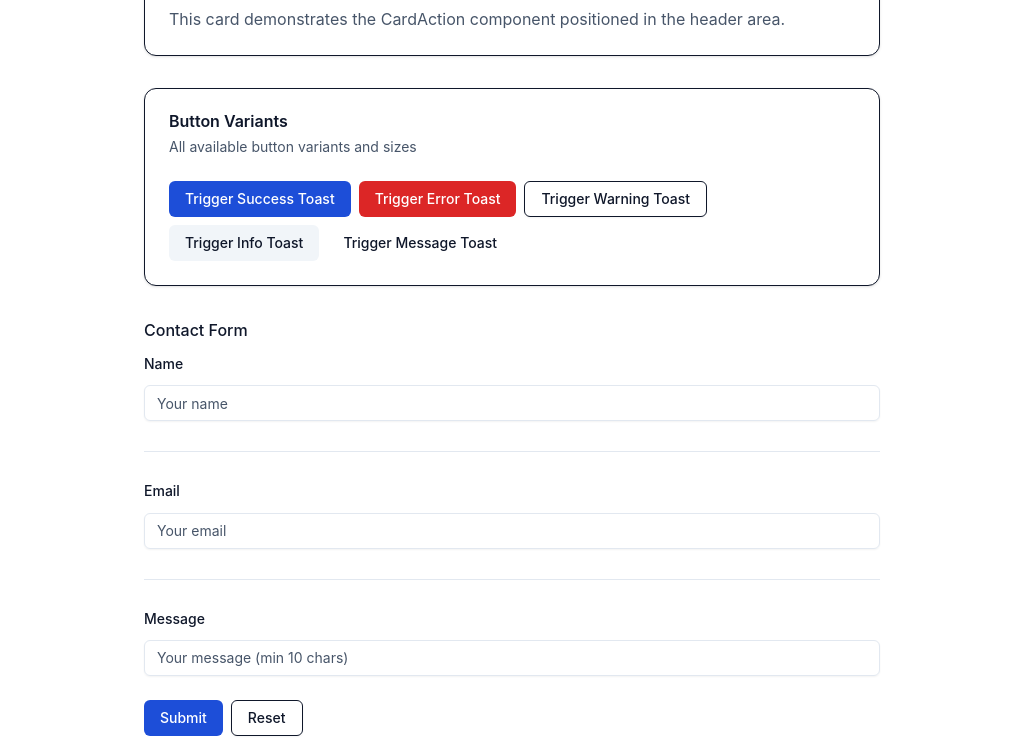
ComponentDemoPage › renders error messages with role="alert" for screen readers
This screenshot has width=1024, height=753.
(page scrolled)
Click the button "Submit": (183,718) [144, 700, 223, 736]
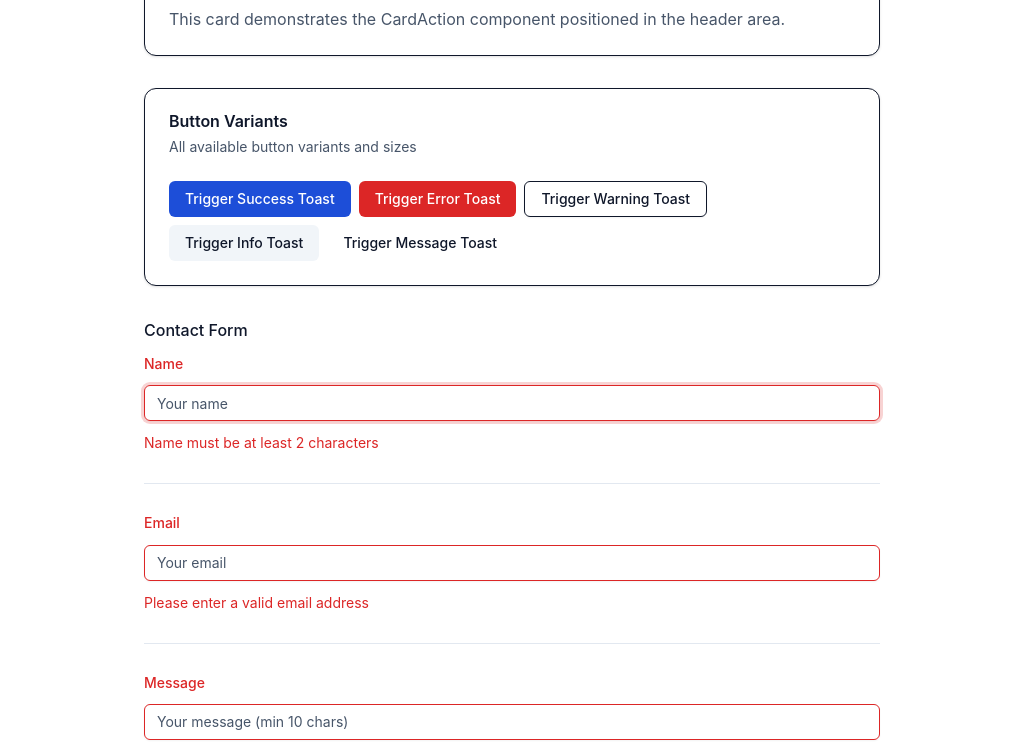
expect the message "Name must be at least 2 characters" is shown: met, box [144, 434, 379, 451]
